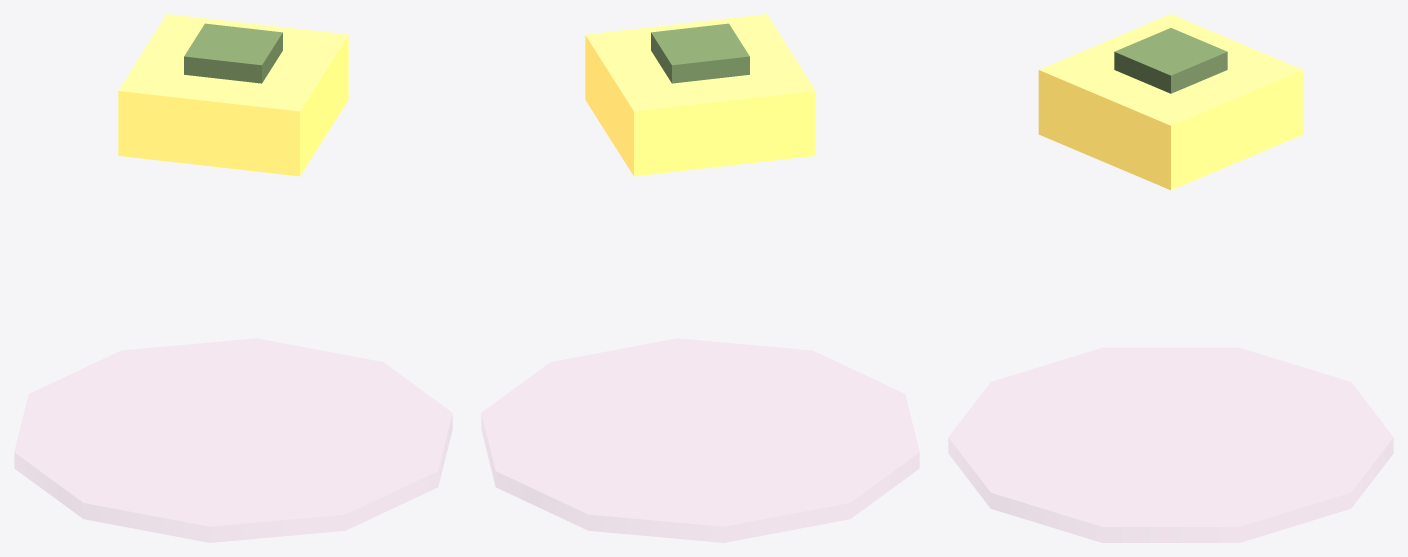
Rendered from baklava.glb.
3 views of the same model, side by side, from view 1: azimuth 30°, elevation 25°; view 2: azimuth 150°, elevation 25°; view 3: azimuth 270°, elevation 25° (orthographic).
Bounding box in the file's own units: 0.9511 × 0.995 × 1.
